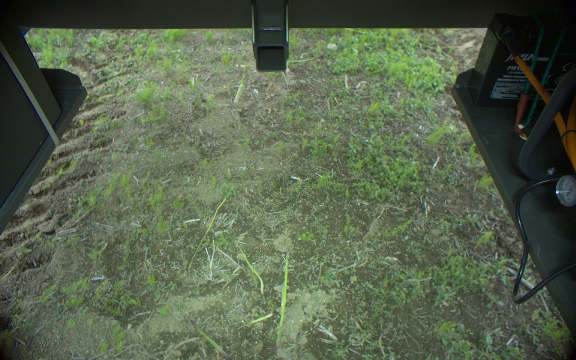aspa: (186, 318, 236, 360), (273, 247, 292, 348), (233, 62, 251, 103)
